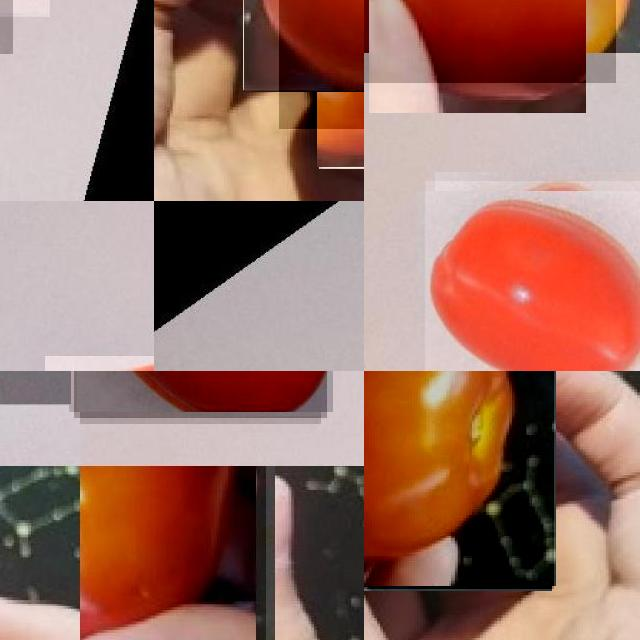0: (80, 466, 266, 640)
Fresh Tomato: (364, 371, 554, 588), (425, 181, 640, 371), (364, 0, 616, 83)
